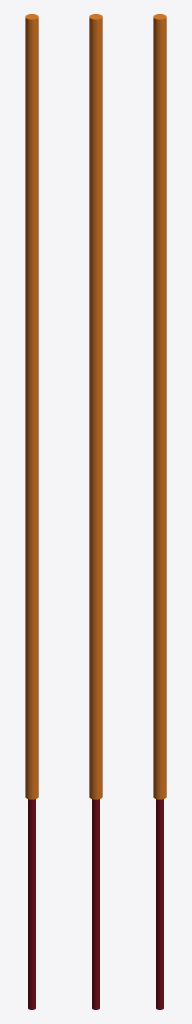
The model's file is incense.fbx.
3 renders of one model, left to right at view 1: azimuth 90°, elevation 25°; view 2: azimuth 210°, elevation 25°; view 3: azimuth 270°, elevation 25°, orthographic.
Parts seen in each view (by area): view 1: Cylinder.001; view 2: Cylinder.001; view 3: Cylinder.001.
Part boxes in pixels (bbox=[...]): Cylinder.001: bbox=[25, 14, 38, 1009]; Cylinder.001: bbox=[89, 14, 102, 1009]; Cylinder.001: bbox=[153, 14, 166, 1009].
Size of the model in its own units: 3.01 by 248 by 3.01.
